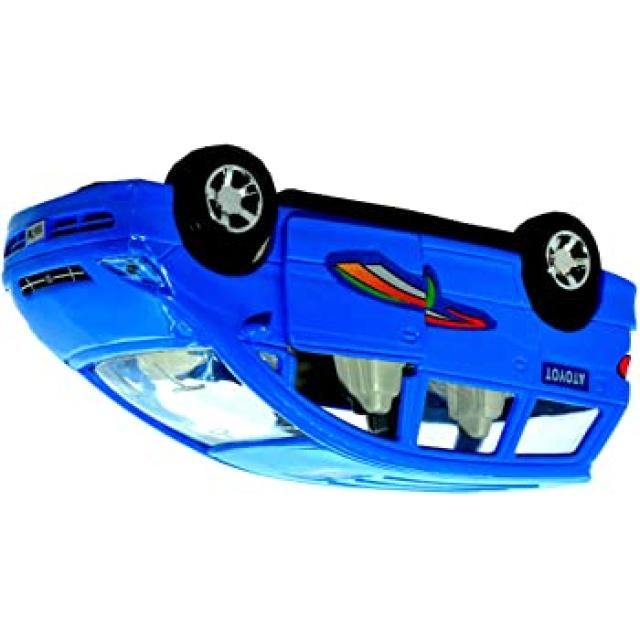Car: (4, 146, 635, 492)
